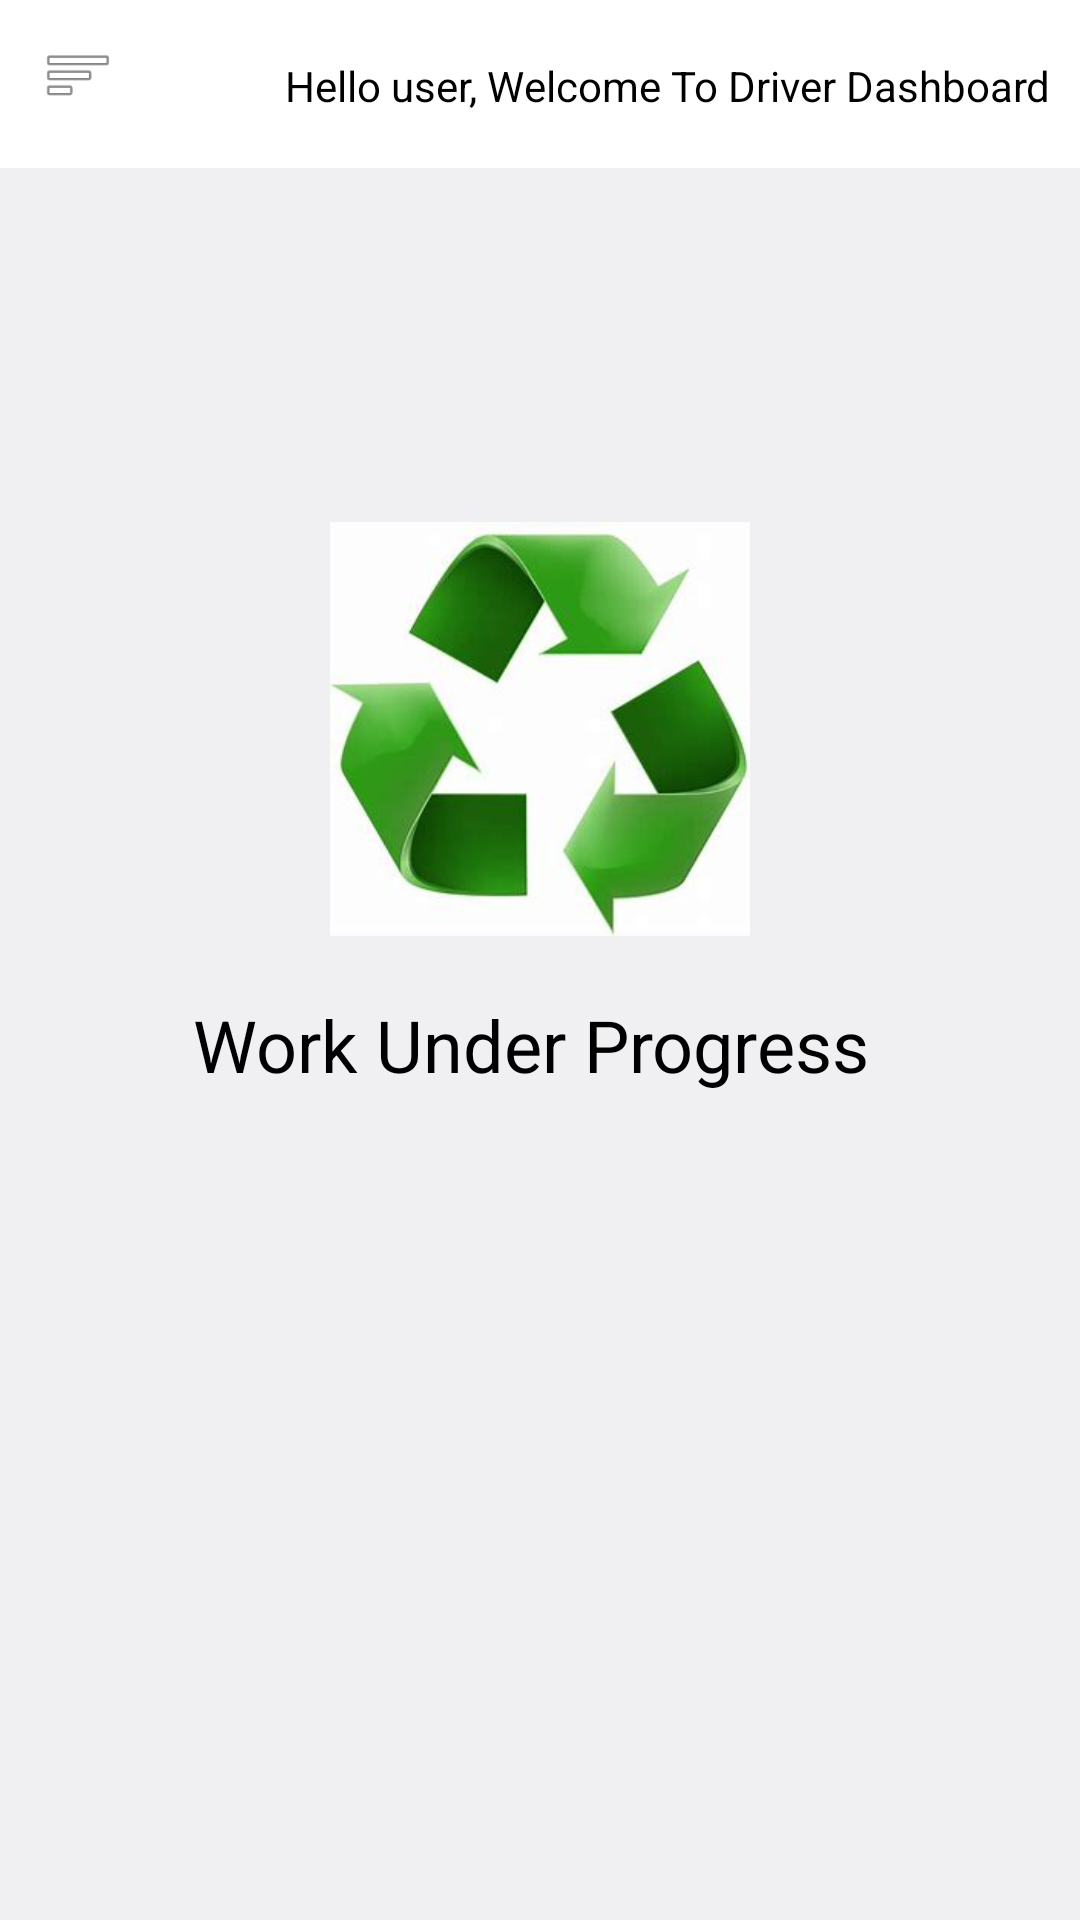

Where to tap for icons on this 1080px×1920px app screen, as (x,y):
sort by size: (78,75)
